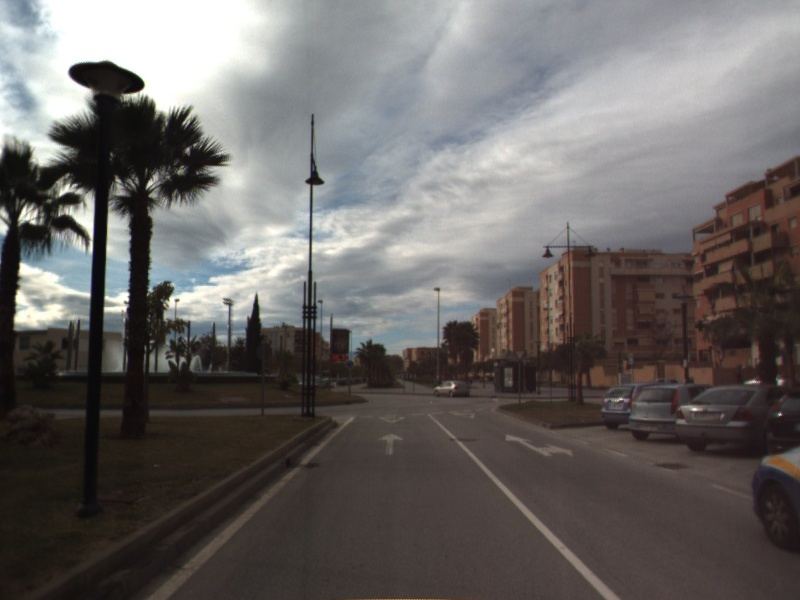STRAIGHT: (376, 431, 406, 457)
STRAIGHT_RIGHT: (504, 433, 574, 459)
